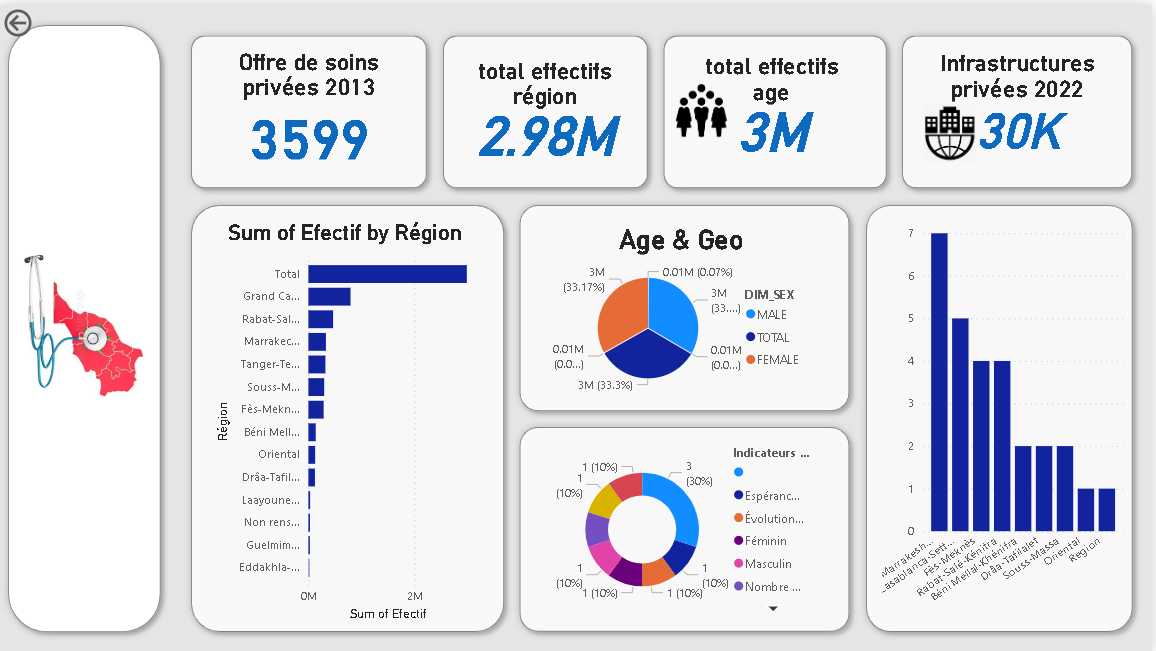

What the dashboard file says about the page in this screenshot:
{"tool":"powerbi","page":{"name":"Home","canvas":[1280,720],"ordinal":0},"visuals":[{"type":"shape","box":[0,12.5,187.6,692.4],"z":0},{"type":"shape","box":[203.2,25,279.8,187.6],"z":1000},{"type":"shape","box":[483,25,245.4,187.6],"z":2000},{"type":"shape","box":[728.4,25,265.7,187.6],"z":3000},{"type":"shape","box":[994.1,25,273.5,187.6],"z":4000},{"type":"shape","box":[203.2,212.6,365.7,492.3],"z":5000},{"type":"shape","box":[568.9,459.5,384.5,245.4],"z":6000},{"type":"shape","box":[568.9,212.6,384.5,247],"z":7000},{"type":"shape","box":[953.4,212.6,314.2,492.3],"z":8000},{"type":"card","title":"total  effectifs  région","fields":{"Values":["Max(calcule.Efectif)"]},"box":[500.2,57.8,211,121.9],"z":9000},{"type":"card","title":"total effectifs age","fields":{"Values":["Max(Effectif des assurés actifs par Tranche d'âge.Efectif(Effectif des assurés actifs par Tranche d'âge))"]},"box":[761.7,53.3,191.7,123.3],"z":10000},{"type":"card","title":"Infrastructures privées 2022","fields":{"Values":["Sum(infrastructures-privees-2022.Column1)"]},"box":[1016.7,50,228.3,128.3],"z":11000},{"type":"card","title":"Offre de soins privées 2013","fields":{"Values":["Sum(offre-de-soins-privees-ms-2013.Nombre(Offre de soins privées (2013) ))"]},"box":[233.3,48.3,220,128.3],"z":13000},{"type":"image","box":[740,80,78.3,75],"z":14000},{"type":"image","box":[1016.7,105,76.7,75],"z":15000},{"type":"actionButton","box":[0,0,100,40],"z":16000},{"type":"pieChart","title":"Age & Geo","fields":{"Category":["Suicide deaths.DIM_SEX"],"Y":["CountNonNull(Suicide deaths.DIM_AGE)","Sum(Suicide deaths.DIM_GEO_CODE_M49)"]},"box":[606.7,243.3,300,196.7],"z":17000},{"type":"donutChart","fields":{"Category":["indic-soc-sante-mef-2014-3 MEF.Indicateurs sociaux - Santé"],"Y":["CountNonNull(indic-soc-sante-mef-2014-3 MEF.Column1)"]},"box":[606.7,481.7,300,201.7],"z":18000},{"type":"clusteredColumnChart","fields":{"Category":["Health in Morocco_wikipedia.Column3"],"Y":["CountNonNull(Health in Morocco_wikipedia.Column2)"]},"box":[975,238.3,278.3,445],"z":19000},{"type":"clusteredBarChart","fields":{"Category":["calcule.Région"],"Y":["Sum(calcule.Efectif)"]},"box":[233.3,238.3,300,450],"z":20000},{"type":"image","box":[18.3,40,150,635],"z":20001}]}

Visuals, with their boxes in screenshot pixels (x1, y1, x2, y2), scaled from the page's 1280x720 canvas onto the 1156x651 screenshot:
shape: l=0, t=11, r=169, b=637
shape: l=184, t=23, r=436, b=192
shape: l=436, t=23, r=658, b=192
shape: l=658, t=23, r=898, b=192
shape: l=898, t=23, r=1145, b=192
shape: l=184, t=192, r=514, b=637
shape: l=514, t=415, r=861, b=637
shape: l=514, t=192, r=861, b=416
shape: l=861, t=192, r=1145, b=637
"total  effectifs  région" card: l=452, t=52, r=642, b=162
"total effectifs age" card: l=688, t=48, r=861, b=160
"Infrastructures privées 2022" card: l=918, t=45, r=1124, b=161
"Offre de soins privées 2013" card: l=211, t=44, r=409, b=160
image: l=668, t=72, r=739, b=140
image: l=918, t=95, r=987, b=163
actionButton: l=0, t=0, r=90, b=36
"Age & Geo" pieChart: l=548, t=220, r=819, b=398
donutChart - indic-soc-sante-mef-2014-3 MEF.Indicateurs sociaux - Santé x CountNonNull(indic-soc-sante-mef-2014-3 MEF.Column1): l=548, t=436, r=819, b=618
clusteredColumnChart - Health in Morocco_wikipedia.Column3 x CountNonNull(Health in Morocco_wikipedia.Column2): l=881, t=215, r=1132, b=618
clusteredBarChart - calcule.Région x Sum(calcule.Efectif): l=211, t=215, r=482, b=622
image: l=17, t=36, r=152, b=610
